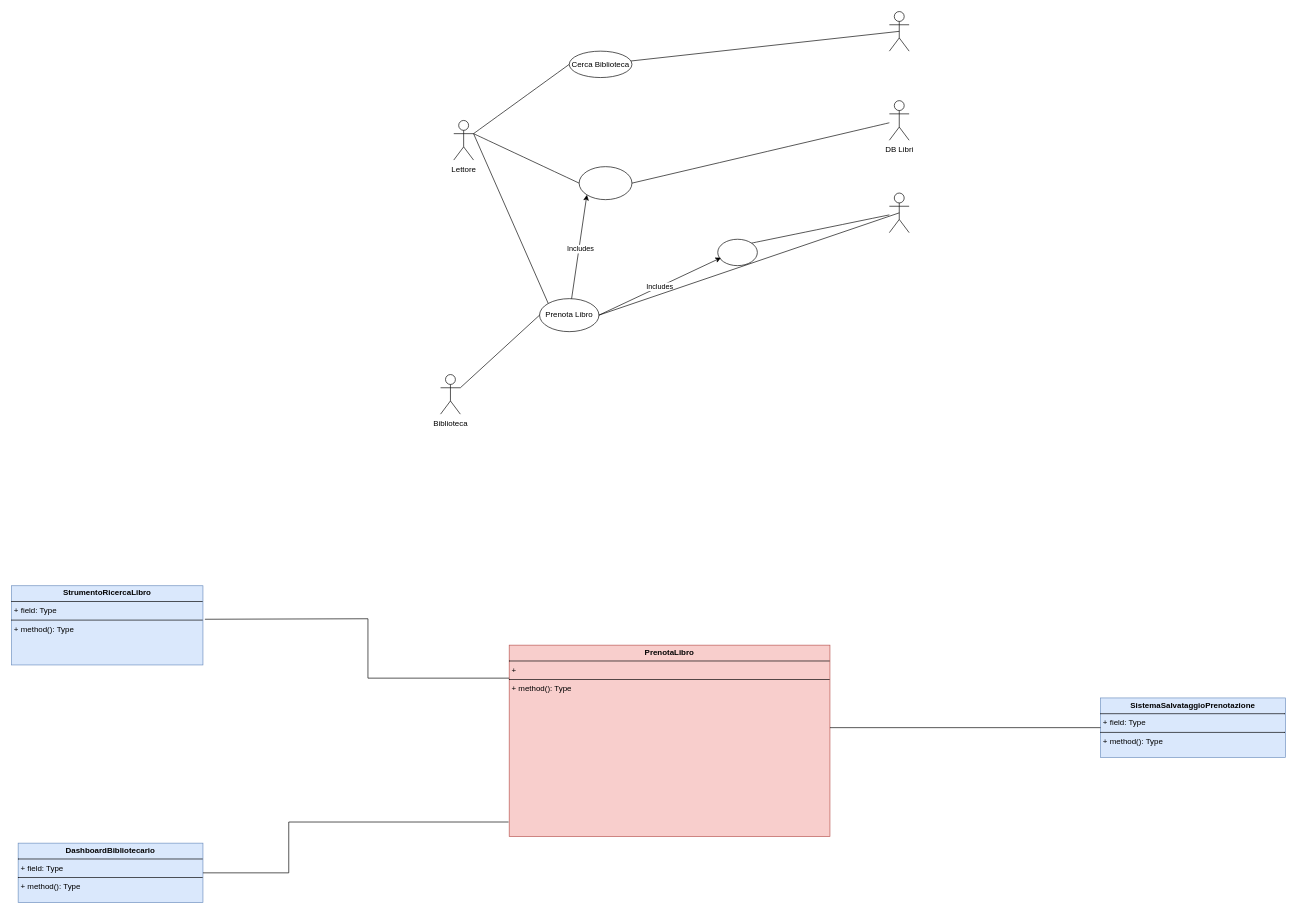
Some shapes in this 1297 by 914 pixel diagram are drawn without their labels. Each missing label, with the centre of its shape:
"Cerca Libro" belongs at point 605,183.
"DB Biblioteche" belongs at point 899,31.
"DB Utenti" belongs at point 899,212.
"Login" belongs at point 737,252.
